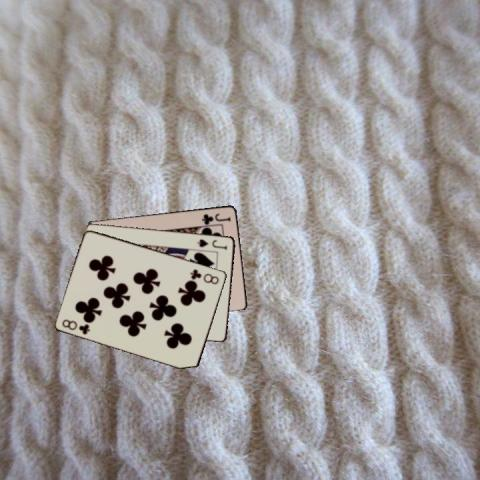8c: (187, 266, 221, 285), (60, 316, 92, 336)
Jc: (199, 210, 232, 224)
Js: (194, 236, 228, 251)
